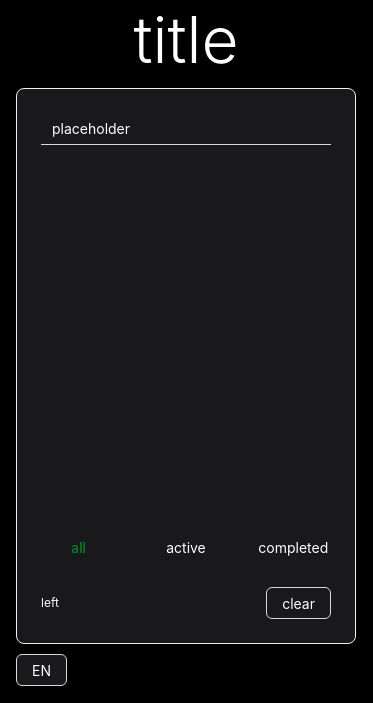
Test: App › clears completed tasks when clicking clear button
This screenshot has width=373, height=703.
Type "Task 1" into the field with test id "new-task-input" at x=186, y=130, box x1=41 y1=114 x2=331 y2=146
Then press Enter
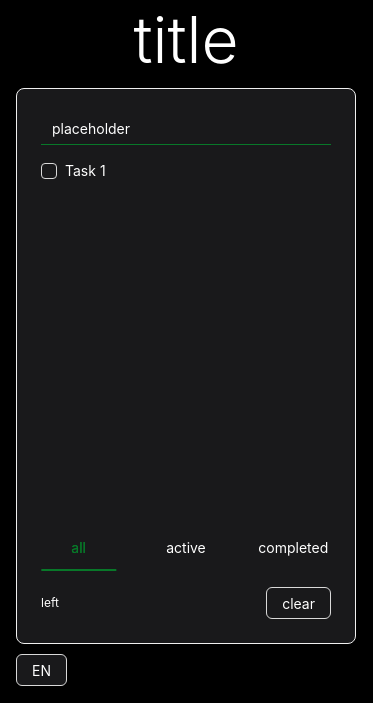
Type "Task 2" into the field with test id "new-task-input" at x=186, y=130, box x1=41 y1=114 x2=331 y2=146
Then press Enter
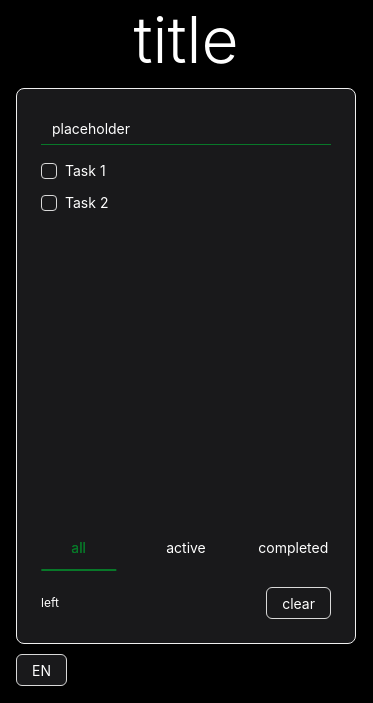
Note: первую задачу выполненной
Click the checkbox labelled "Task 1" at x=73, y=171, box x1=41 y1=162 x2=106 y2=180
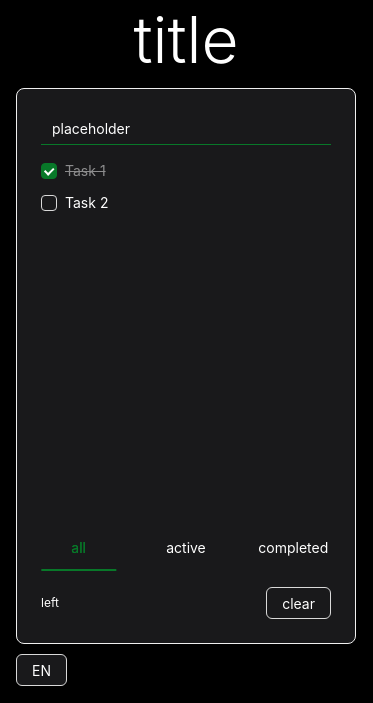
Click the button with test id "clear-button" at x=299, y=604, box x1=266 y1=588 x2=331 y2=620
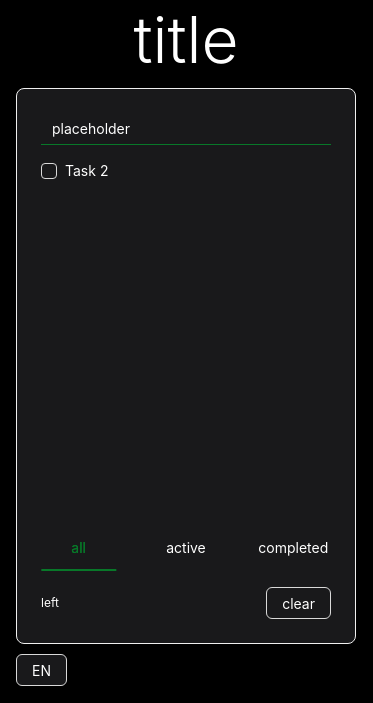
Check: the text "Task 2" is shown, box x1=65 y1=162 x2=108 y2=180
Check: the text "Task 1" is gone
